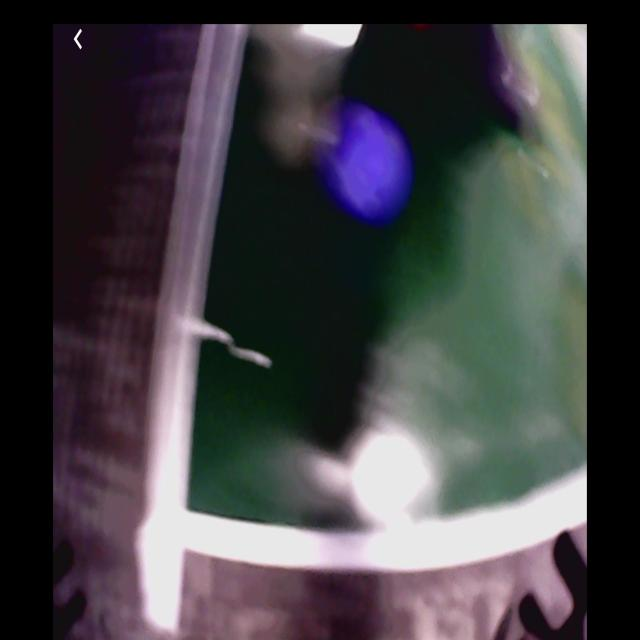ball: (330, 111, 410, 226)
